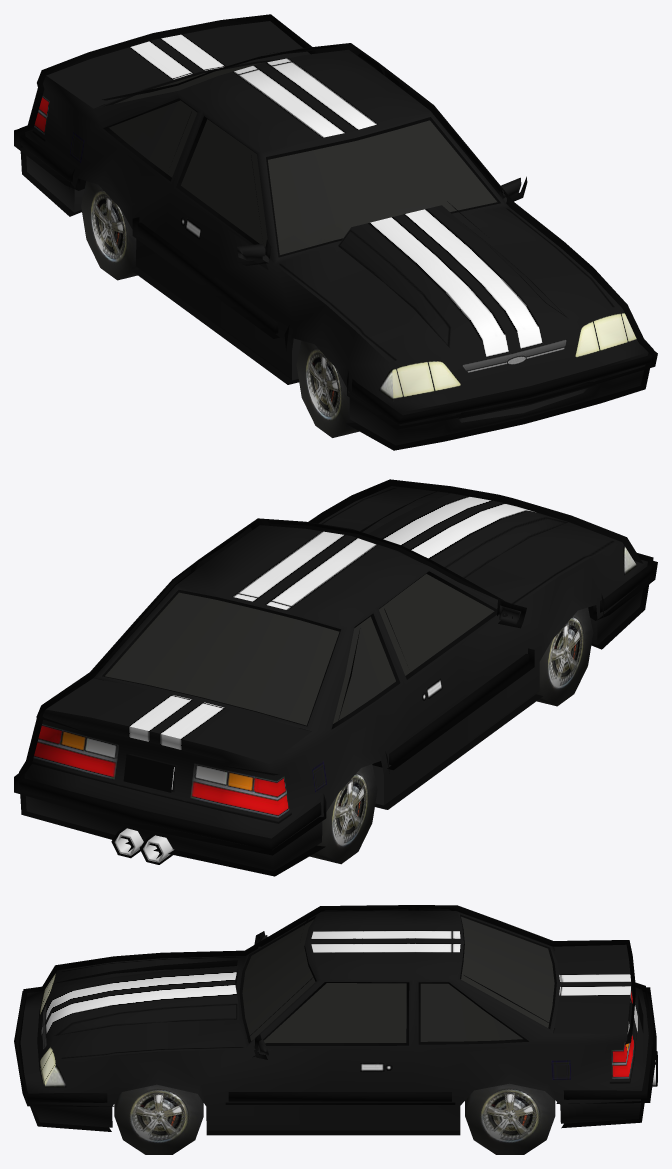
File: Car7.fbx
3 renders of one model, top to bottom at view 1: azimuth 30°, elevation 25°; view 2: azimuth 150°, elevation 25°; view 3: azimuth 270°, elevation 25°, orthographic. The views are drawn at different scales.
Parts seen in each view (by area): view 1: CarBody, Rear_Right_Wheel, Front_Right_Wheel; view 2: CarBody, Rear_Right_Wheel, Front_Right_Wheel; view 3: CarBody, Rear_Left_Wheel, Front_Left_Wheel.
Boxes of the visible parts, x1=… form: CarBody: x1=14, y1=14, x2=657, y2=450; Rear_Right_Wheel: x1=81, y1=181, x2=139, y2=280; Front_Right_Wheel: x1=296, y1=340, x2=359, y2=437; CarBody: x1=14, y1=479, x2=657, y2=876; Rear_Right_Wheel: x1=309, y1=764, x2=377, y2=864; Front_Right_Wheel: x1=536, y1=607, x2=593, y2=706; CarBody: x1=14, y1=905, x2=657, y2=1135; Rear_Left_Wheel: x1=465, y1=1083, x2=555, y2=1154; Front_Left_Wheel: x1=114, y1=1084, x2=203, y2=1154.
Bounding box in the file's own units: 25.08 × 17.2 × 58.69.
